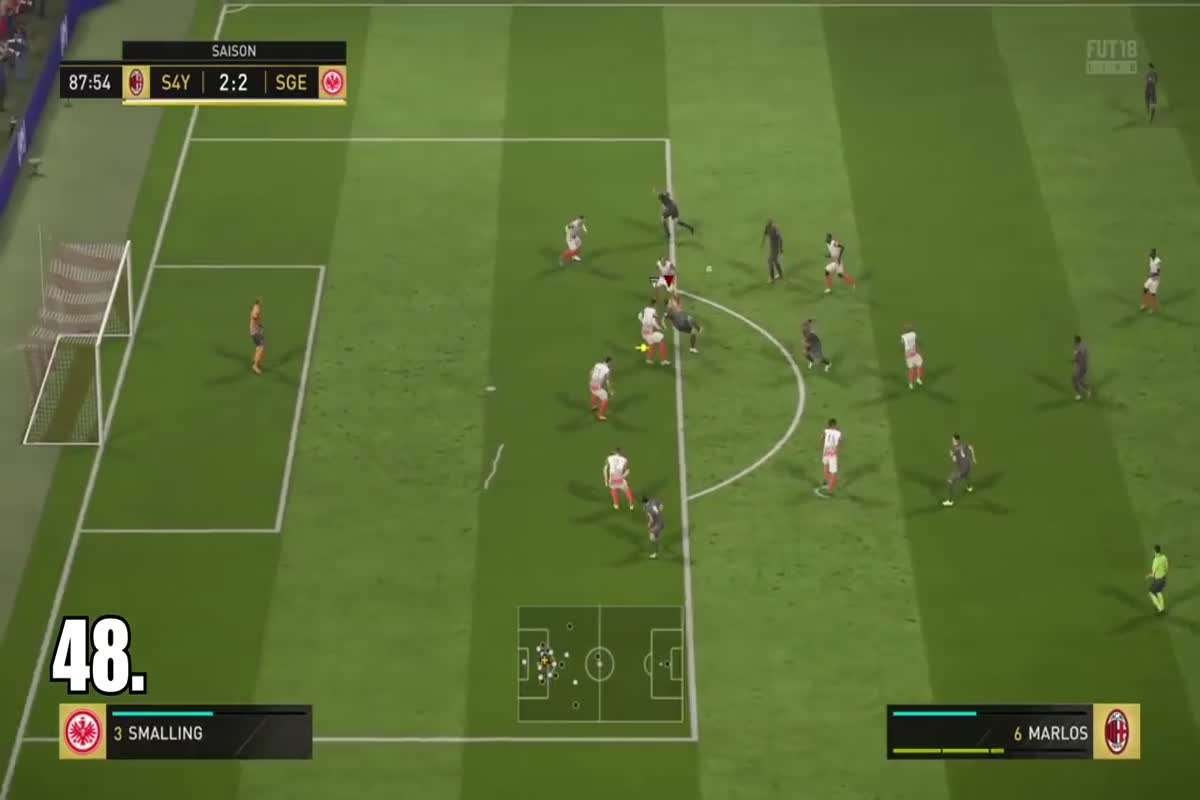ball: (698, 258, 721, 280)
